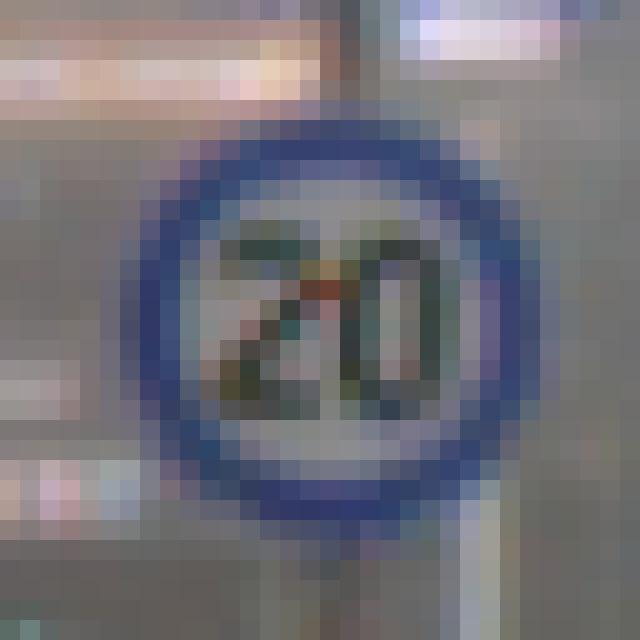SPEED LIMIT 20: (89, 93, 585, 540)
